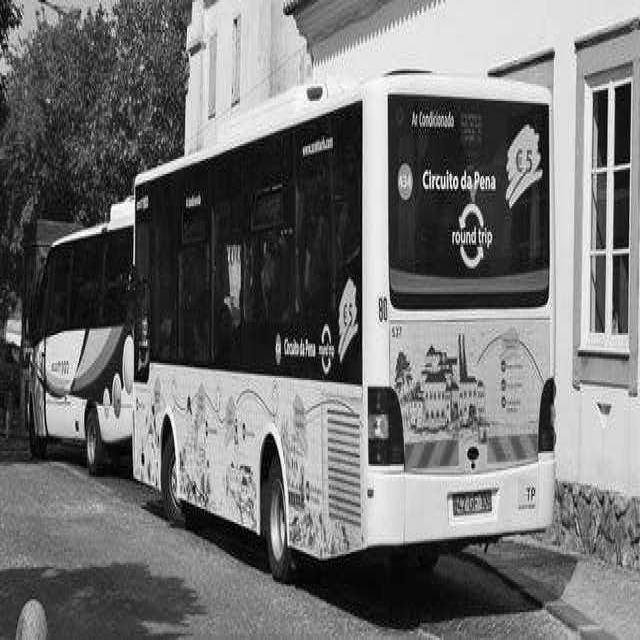Bus: (130, 72, 555, 576), (28, 196, 132, 472)
